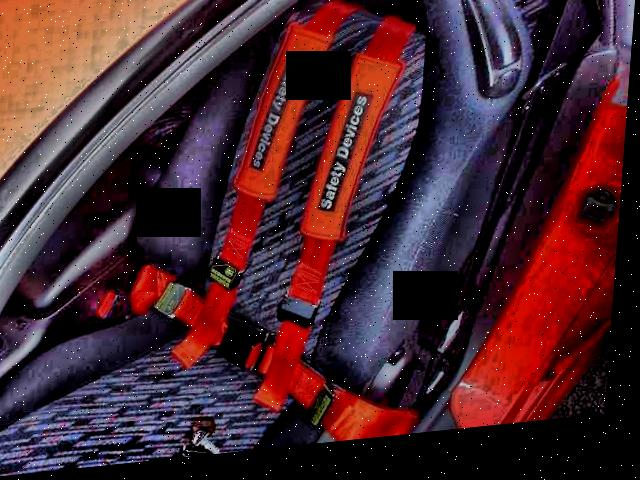seatbelt: (177, 11, 356, 344), (263, 26, 413, 402)
